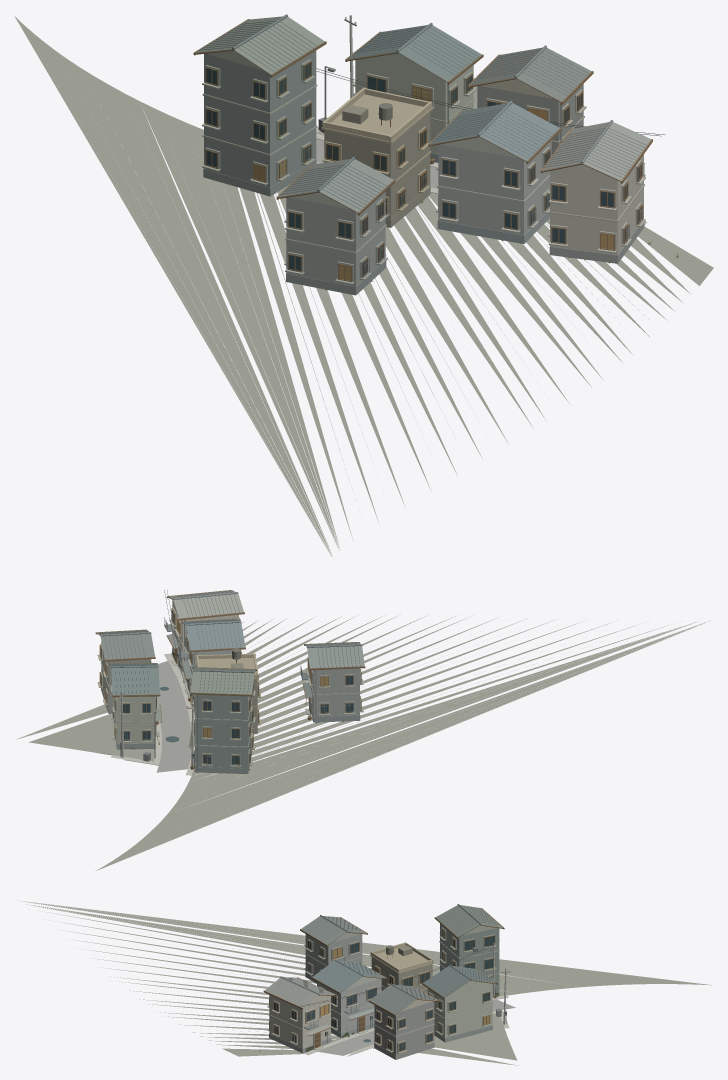
Rendered from street_0_5.glb.
The picture shows the model from 3 angles, top to bottom: view 1: azimuth 30°, elevation 25°; view 2: azimuth 150°, elevation 25°; view 3: azimuth 270°, elevation 25°; orthographic projection. The views are drawn at different scales.
Parts seen in each view (by area): view 1: ground.027, graybrick.012, plaster.013, concrete.011, roof_tile.007, roof_metal.013, trim.013, wood.013, metal.013, glass.013, window_warm.013; view 2: ground.027, roof_tile.007, roof_metal.013, graybrick.012, trim.013, wood.013, road.012, concrete.011, plaster.013, metal.013, glass.013, paving.008; view 3: ground.027, graybrick.012, plaster.013, roof_tile.007, roof_metal.013, trim.013, wood.013, concrete.011, metal.013, glass.013, road.012, paving.008 (+1 smaller).
Boxes of the visible parts, left/top/right/bottom form: ground.027: left=14, top=16, right=713, bottom=556; graybrick.012: left=203, top=50, right=644, bottom=295; plaster.013: left=206, top=50, right=643, bottom=255; concrete.011: left=286, top=15, right=551, bottom=286; roof_tile.007: left=232, top=14, right=613, bottom=191; roof_metal.013: left=196, top=16, right=651, bottom=212; trim.013: left=202, top=59, right=645, bottom=284; wood.013: left=193, top=19, right=652, bottom=282; metal.013: left=198, top=19, right=647, bottom=277; glass.013: left=206, top=63, right=641, bottom=276; window_warm.013: left=254, top=86, right=613, bottom=280; ground.027: left=16, top=614, right=710, bottom=870; roof_tile.007: left=97, top=592, right=362, bottom=695; roof_metal.013: left=155, top=590, right=364, bottom=747; graybrick.012: left=101, top=642, right=360, bottom=773; trim.013: left=97, top=607, right=363, bottom=767; wood.013: left=95, top=590, right=365, bottom=765; road.012: left=156, top=660, right=191, bottom=772; concrete.011: left=121, top=629, right=359, bottom=765; plaster.013: left=114, top=600, right=258, bottom=743; metal.013: left=119, top=590, right=360, bottom=772; glass.013: left=100, top=609, right=353, bottom=764; paving.008: left=99, top=653, right=195, bottom=775; ground.027: left=22, top=901, right=711, bottom=1065; graybrick.012: left=269, top=923, right=499, bottom=1059; plaster.013: left=269, top=925, right=497, bottom=1048; roof_tile.007: left=280, top=904, right=496, bottom=1014; roof_metal.013: left=265, top=905, right=502, bottom=1034; trim.013: left=267, top=927, right=499, bottom=1053; wood.013: left=263, top=908, right=504, bottom=1052; concrete.011: left=305, top=934, right=506, bottom=1033; metal.013: left=267, top=906, right=510, bottom=1049; glass.013: left=274, top=930, right=506, bottom=1051; road.012: left=317, top=999, right=515, bottom=1055; paving.008: left=304, top=995, right=509, bottom=1056.
Bounding box in the file's own units: 49.73 × 10.88 × 88.7.
